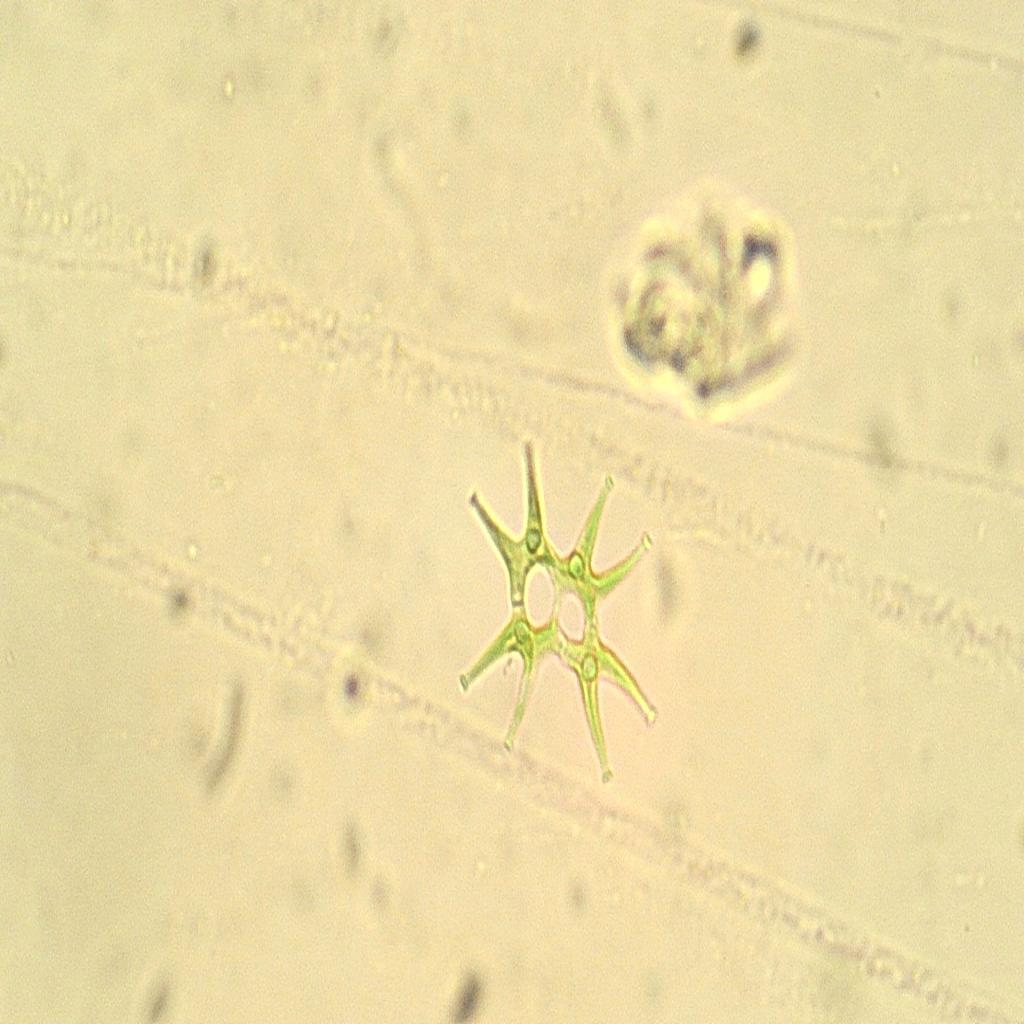Pediastrum_75FO: (438, 422, 682, 802)
